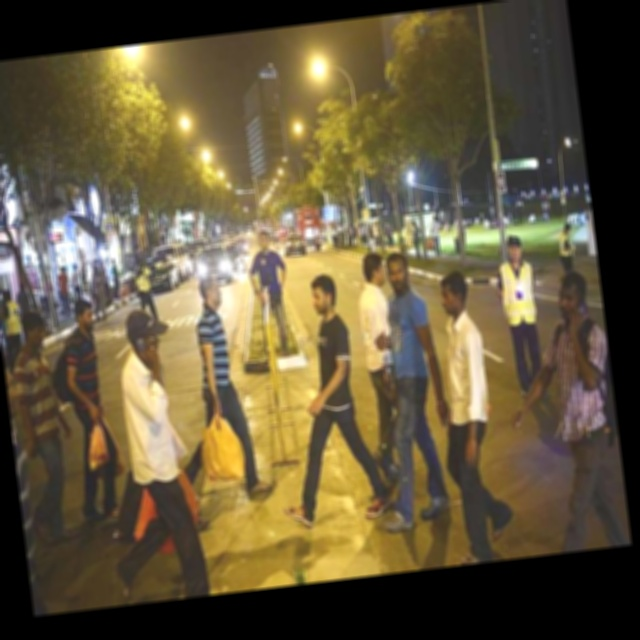Con_Chaleco: (499, 261, 537, 325)
Sin_Casco_Mascarrilla: (437, 271, 471, 319), (308, 272, 339, 319), (383, 249, 411, 295), (196, 274, 225, 311)
Sin_Chaleco: (311, 318, 357, 408), (193, 312, 233, 390)
